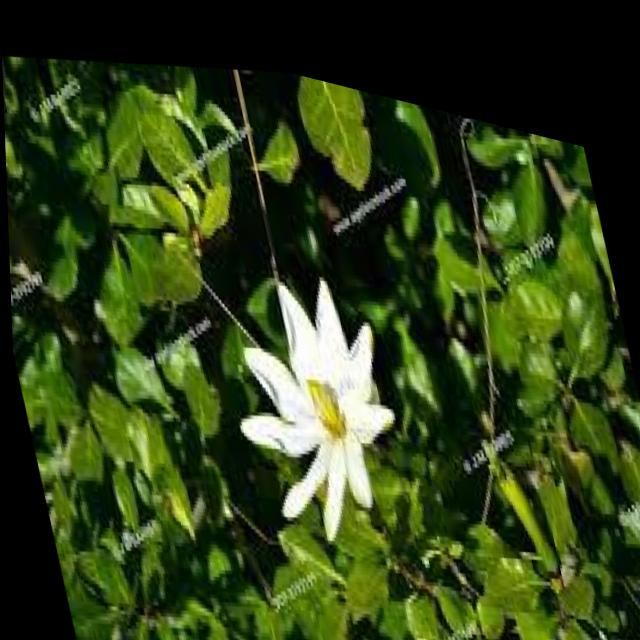Flower: (198, 224, 425, 561)
